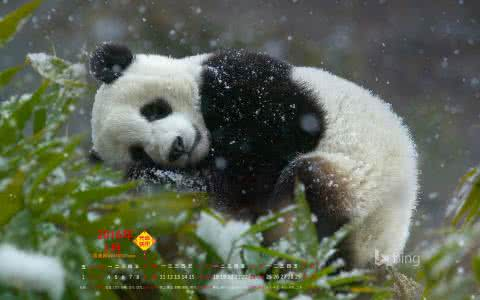panda: (89, 18, 415, 266)
